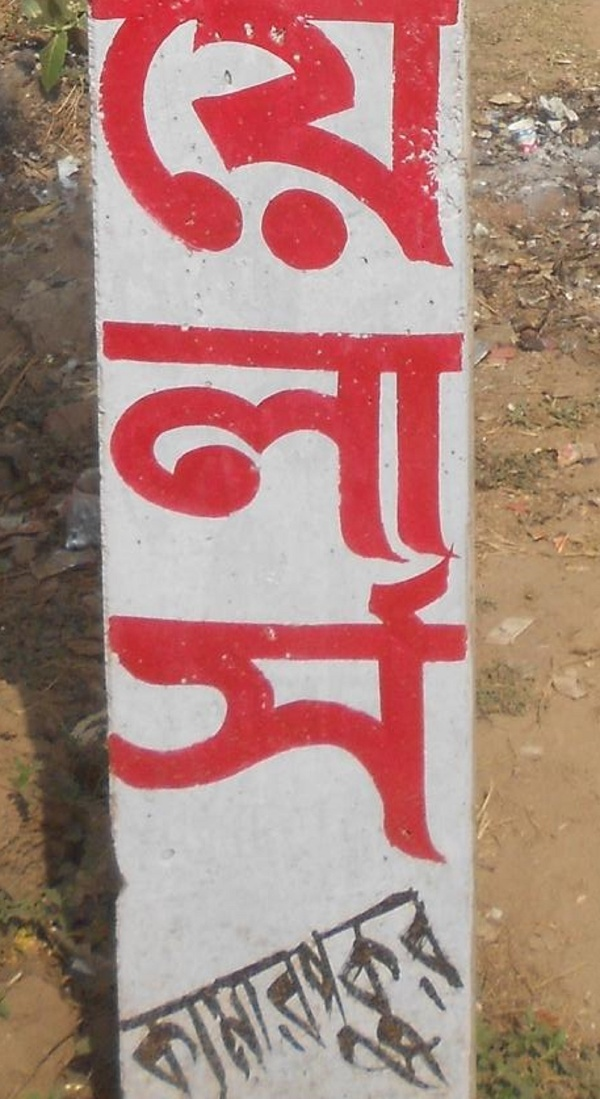text: (97, 1, 112, 868), (113, 1, 128, 868), (129, 1, 144, 868), (145, 1, 160, 868), (161, 1, 176, 868), (177, 1, 192, 868), (193, 1, 208, 868), (209, 1, 224, 868), (225, 1, 240, 868), (241, 1, 256, 868), (257, 1, 272, 868), (273, 1, 288, 868), (289, 1, 304, 868), (305, 1, 320, 868), (321, 1, 336, 868), (337, 1, 352, 868), (353, 1, 368, 868), (369, 1, 384, 868), (385, 1, 400, 868), (401, 1, 416, 868), (417, 1, 432, 868), (433, 1, 448, 868), (449, 1, 464, 868), (465, 1, 472, 868), (91, 1, 96, 868), (129, 886, 144, 1096), (145, 886, 160, 1096), (161, 886, 176, 1096), (177, 886, 192, 1096), (193, 886, 208, 1096), (209, 886, 224, 1096), (225, 886, 240, 1096), (241, 886, 256, 1096), (257, 886, 272, 1096), (273, 886, 288, 1096), (289, 886, 304, 1096), (305, 886, 320, 1096), (321, 886, 336, 1096), (337, 886, 352, 1096), (353, 886, 368, 1096), (369, 886, 384, 1096), (385, 886, 400, 1096), (401, 886, 416, 1096), (417, 886, 432, 1096), (433, 886, 448, 1096), (449, 886, 464, 1096), (465, 886, 474, 1096), (122, 886, 128, 1096)
